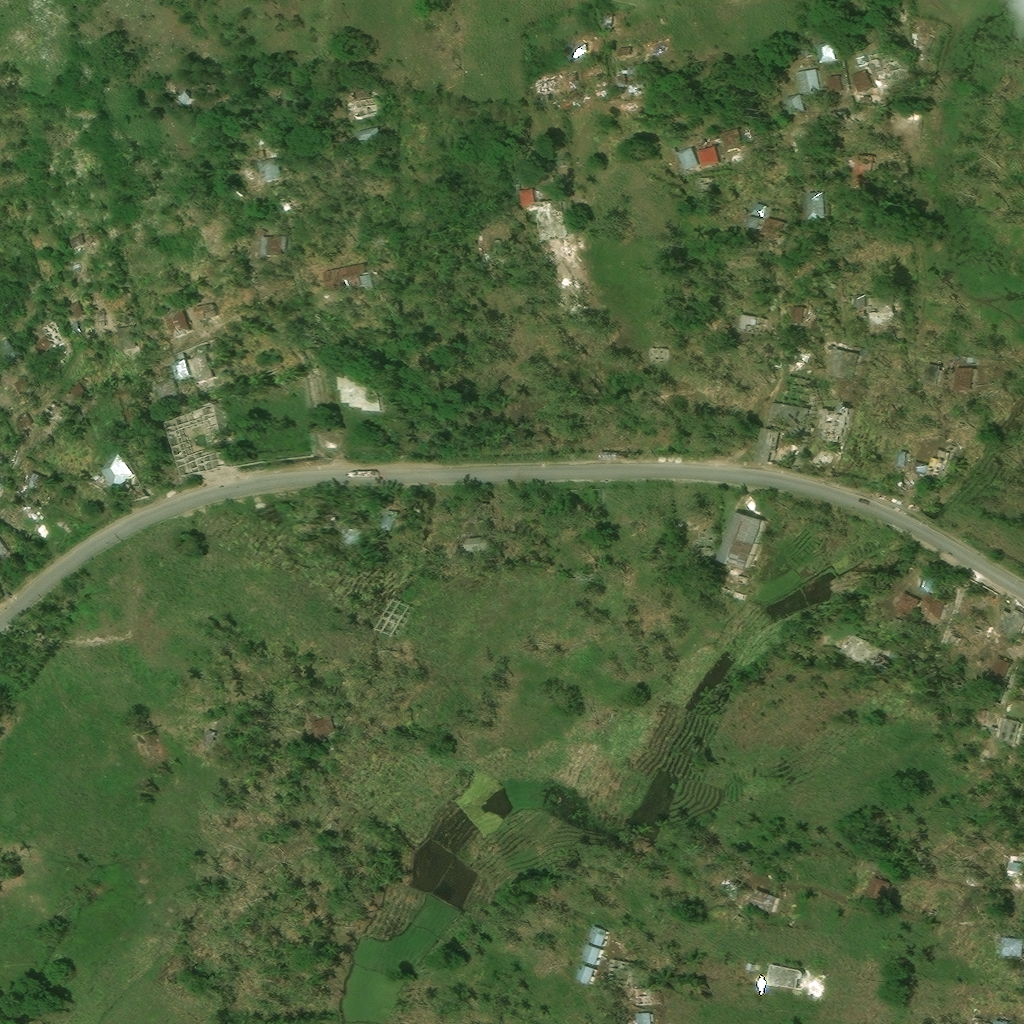destroyed: (543, 203, 565, 226), (45, 399, 64, 421), (356, 99, 375, 116), (547, 85, 563, 100), (869, 60, 885, 74), (912, 25, 925, 41), (478, 236, 493, 248), (881, 81, 892, 92)
major_damage: (908, 447, 949, 481), (825, 409, 839, 436), (627, 984, 643, 1003), (643, 343, 657, 358), (630, 69, 644, 82), (734, 573, 747, 586), (639, 82, 650, 93), (618, 81, 628, 91)
minor_damage: (990, 713, 1012, 738)
no_damage: (714, 508, 762, 570), (324, 262, 370, 294), (110, 457, 145, 496), (990, 604, 1023, 638), (826, 345, 856, 378), (759, 960, 797, 985), (713, 257, 751, 281), (162, 383, 190, 415), (171, 313, 199, 344), (752, 428, 776, 463), (851, 639, 880, 667), (916, 591, 943, 618), (262, 159, 288, 187), (29, 472, 56, 498), (183, 361, 208, 388), (983, 650, 1009, 675), (891, 590, 916, 616), (694, 141, 720, 166), (857, 309, 881, 336), (743, 885, 771, 908), (872, 288, 895, 316), (770, 401, 805, 419), (716, 123, 740, 149), (309, 715, 336, 738), (857, 872, 881, 897), (756, 214, 780, 237), (675, 146, 698, 170), (992, 930, 1015, 952), (130, 407, 152, 430), (799, 193, 820, 217), (695, 176, 712, 205), (354, 126, 380, 144), (202, 308, 228, 326), (846, 66, 866, 89), (951, 365, 969, 390), (13, 411, 34, 432), (585, 923, 604, 945), (578, 942, 597, 963), (920, 361, 937, 384), (270, 237, 287, 260), (780, 91, 798, 112), (790, 68, 806, 91), (570, 962, 589, 981), (72, 385, 91, 404), (33, 334, 52, 353), (519, 188, 536, 207), (11, 374, 28, 393), (0, 540, 15, 561), (124, 332, 137, 356), (736, 313, 754, 330), (73, 302, 89, 321), (894, 450, 908, 468), (198, 726, 211, 745), (365, 500, 378, 519), (788, 304, 800, 324), (822, 72, 836, 89), (629, 1008, 644, 1023), (846, 291, 862, 305), (204, 468, 220, 482), (75, 238, 91, 252), (254, 238, 267, 255), (589, 444, 609, 453), (742, 214, 756, 226), (453, 528, 471, 537), (802, 66, 814, 79), (76, 261, 87, 275), (1013, 738, 1023, 753), (1015, 717, 1023, 734), (100, 317, 110, 330), (939, 365, 946, 379), (808, 317, 817, 327)
unclassified: (3, 489, 23, 511), (284, 96, 304, 115), (0, 336, 16, 358), (328, 517, 344, 536), (960, 1010, 980, 1023), (515, 170, 533, 183), (568, 565, 587, 577), (299, 506, 309, 526), (983, 1014, 1002, 1023), (981, 740, 990, 752), (836, 632, 845, 643), (797, 47, 809, 55), (702, 546, 711, 555), (205, 718, 215, 725), (722, 316, 730, 323), (841, 164, 848, 170), (951, 739, 957, 745)
